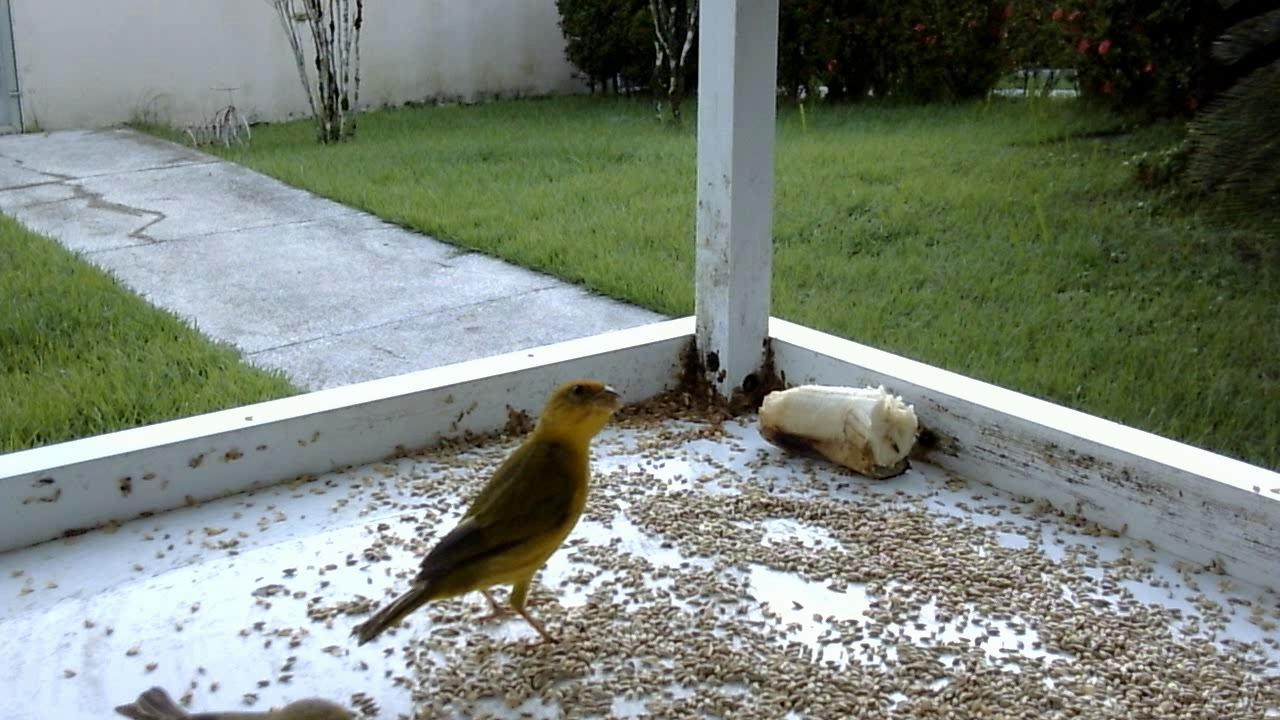canario_do_amazonas: (337, 374, 635, 660)
